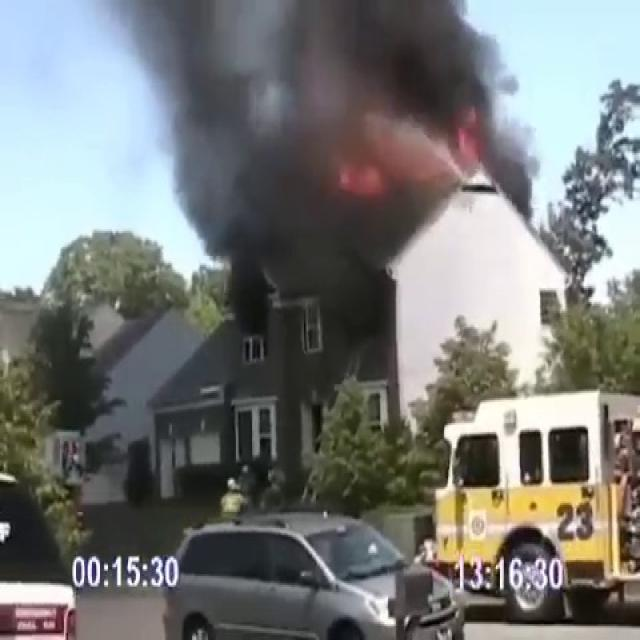Smoke: (24, 0, 536, 324)
